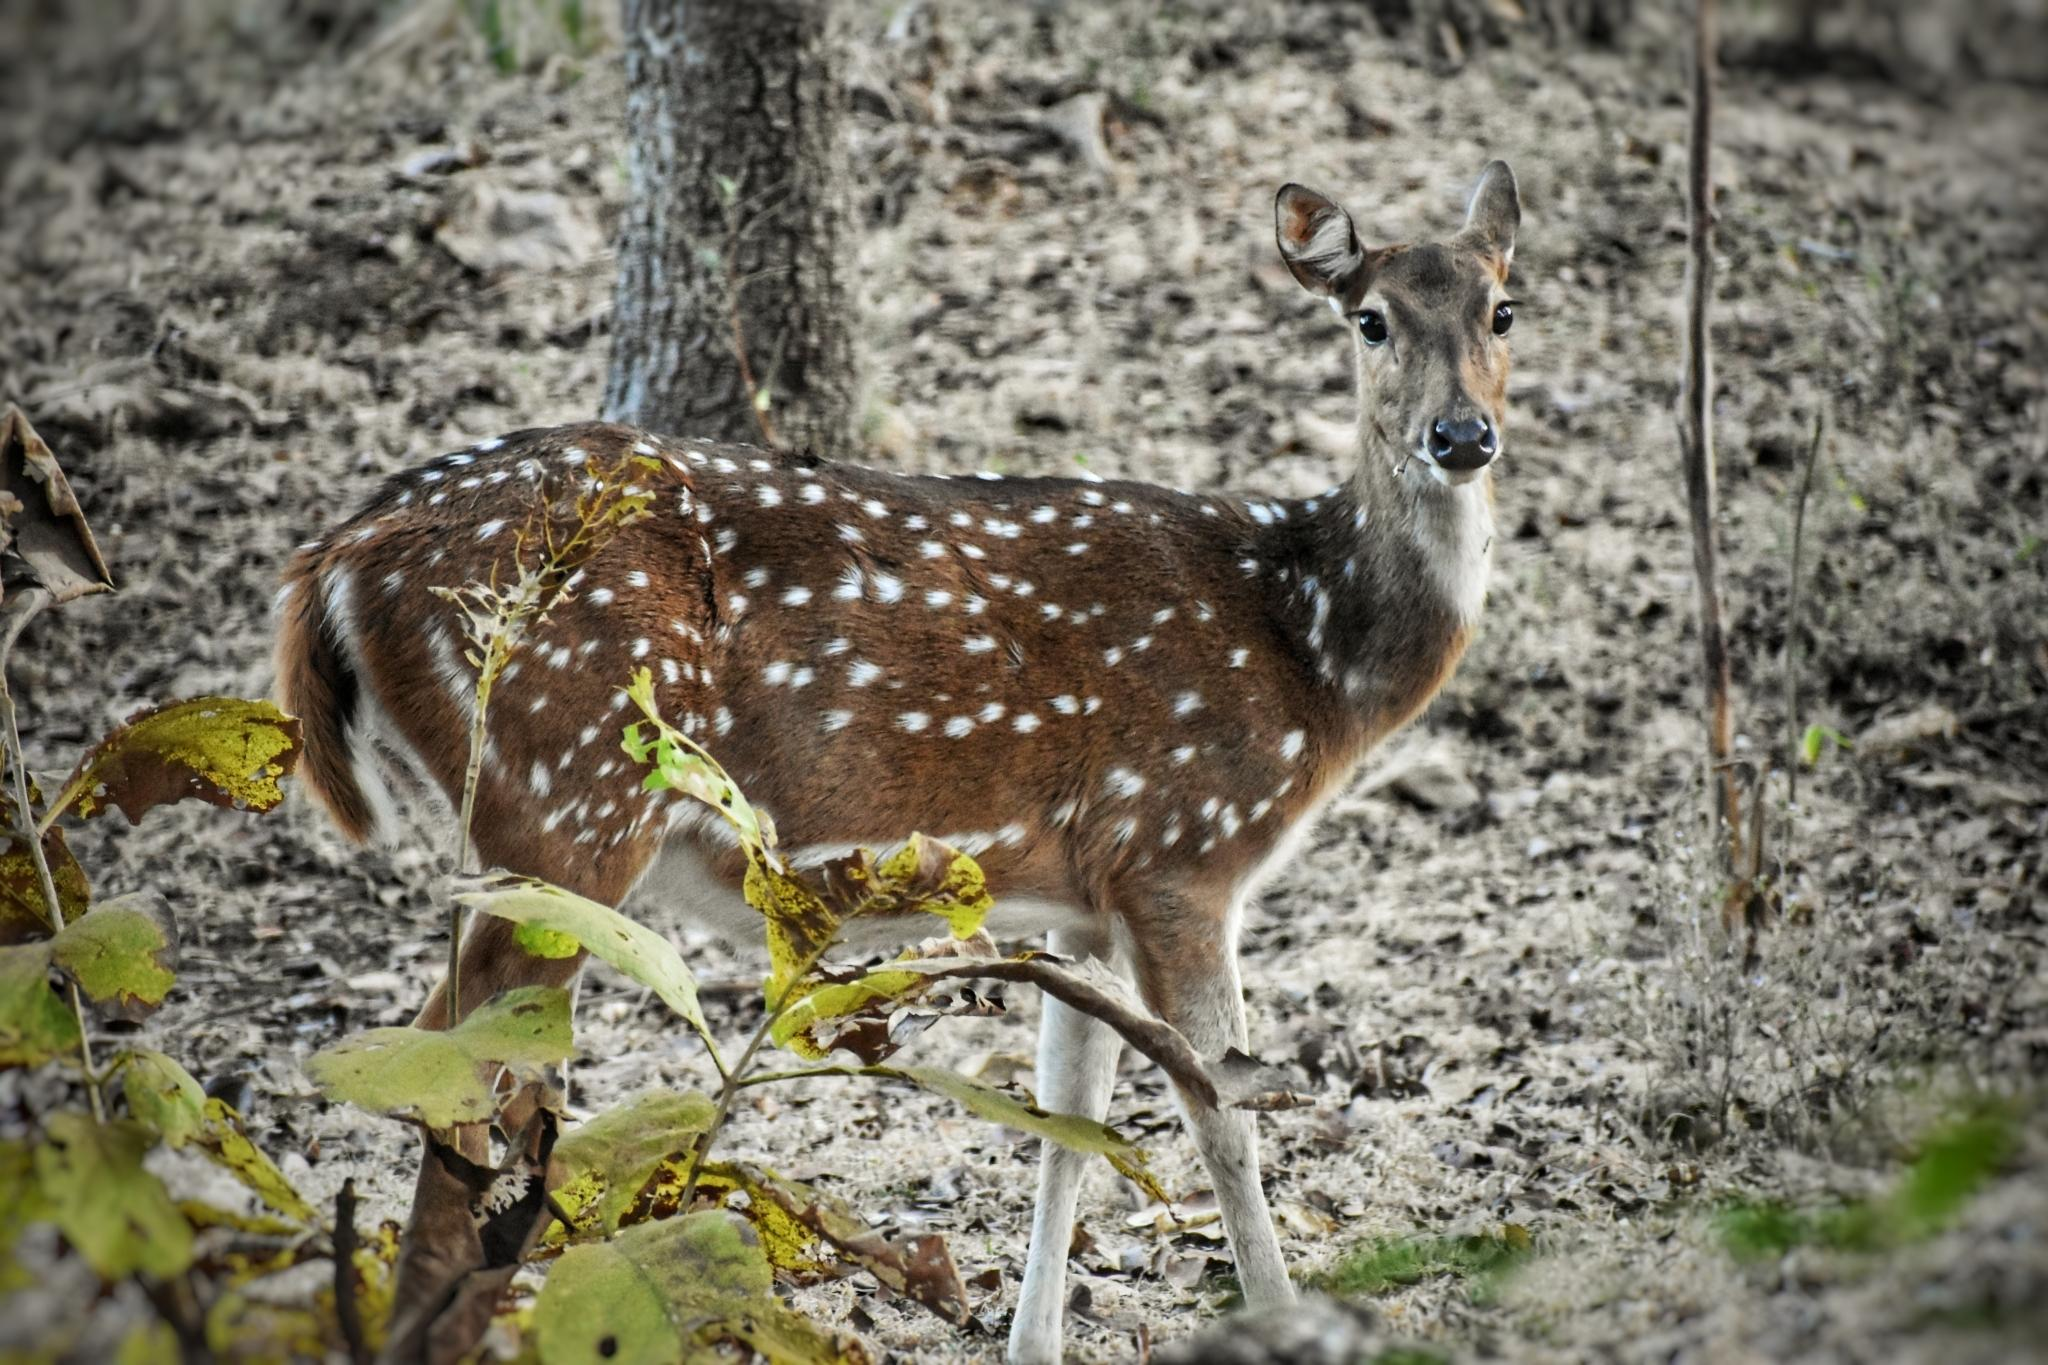Deer: (276, 161, 1520, 1304)
